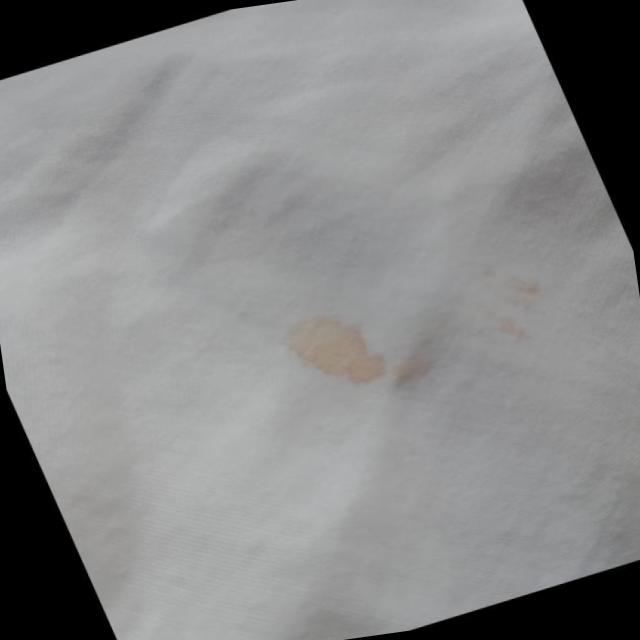stain: (264, 274, 452, 428), (464, 251, 570, 356)
